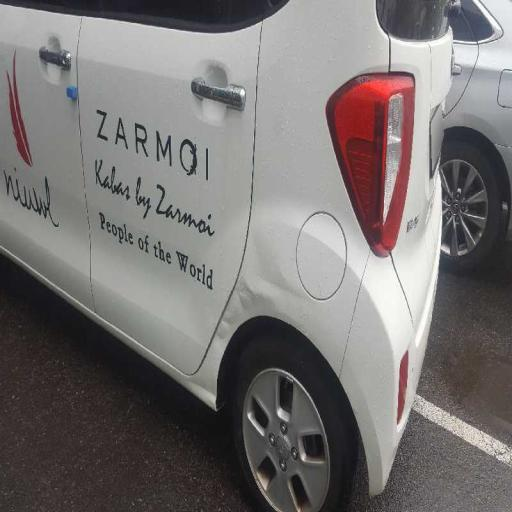dent: (187, 198, 376, 357)
